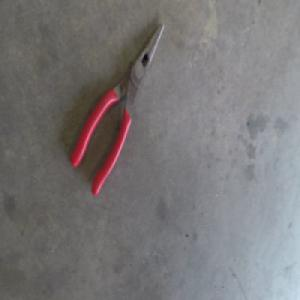Pliers: (72, 20, 167, 195)
